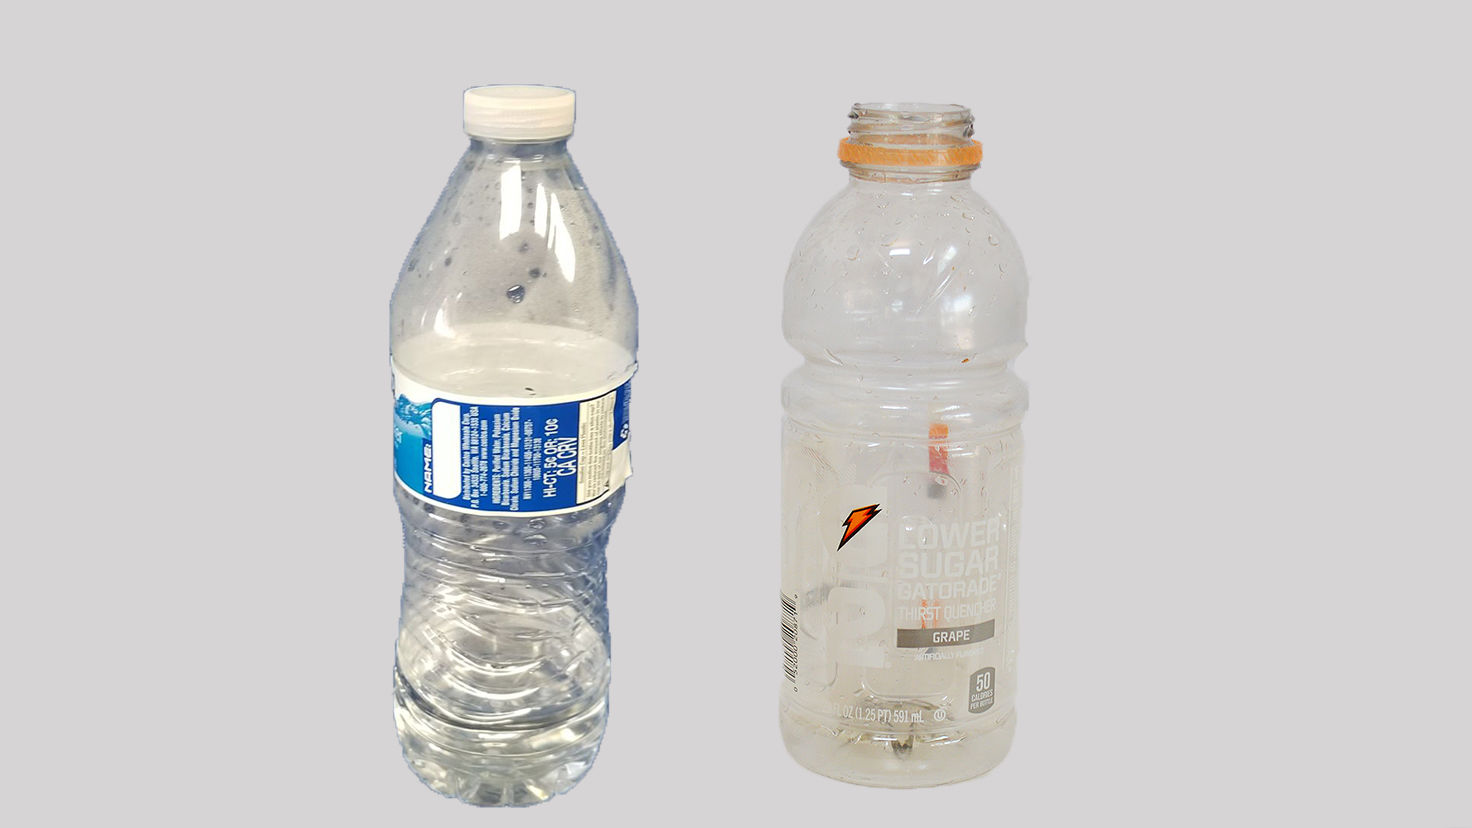plastic_bottle: (378, 64, 648, 819), (772, 87, 1042, 796)
